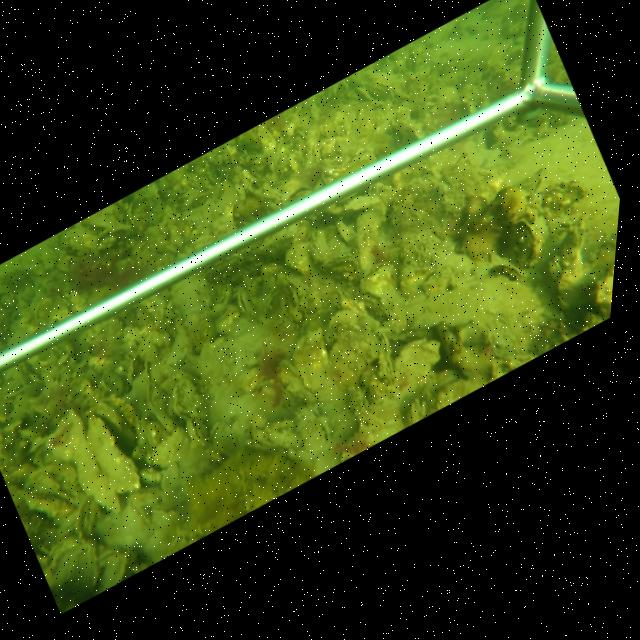Oyster-Closed: (356, 259, 401, 312), (89, 395, 136, 439), (144, 364, 173, 431), (508, 218, 546, 268), (309, 225, 346, 263), (279, 273, 306, 322), (374, 331, 395, 381), (235, 287, 258, 322), (185, 416, 209, 445), (366, 79, 394, 97), (335, 218, 353, 244), (263, 287, 277, 314)
Oyster-Indeterminate: (86, 415, 143, 494), (355, 205, 385, 270), (146, 425, 188, 468), (284, 237, 308, 275)
Oyster-Open: (284, 184, 313, 201)
